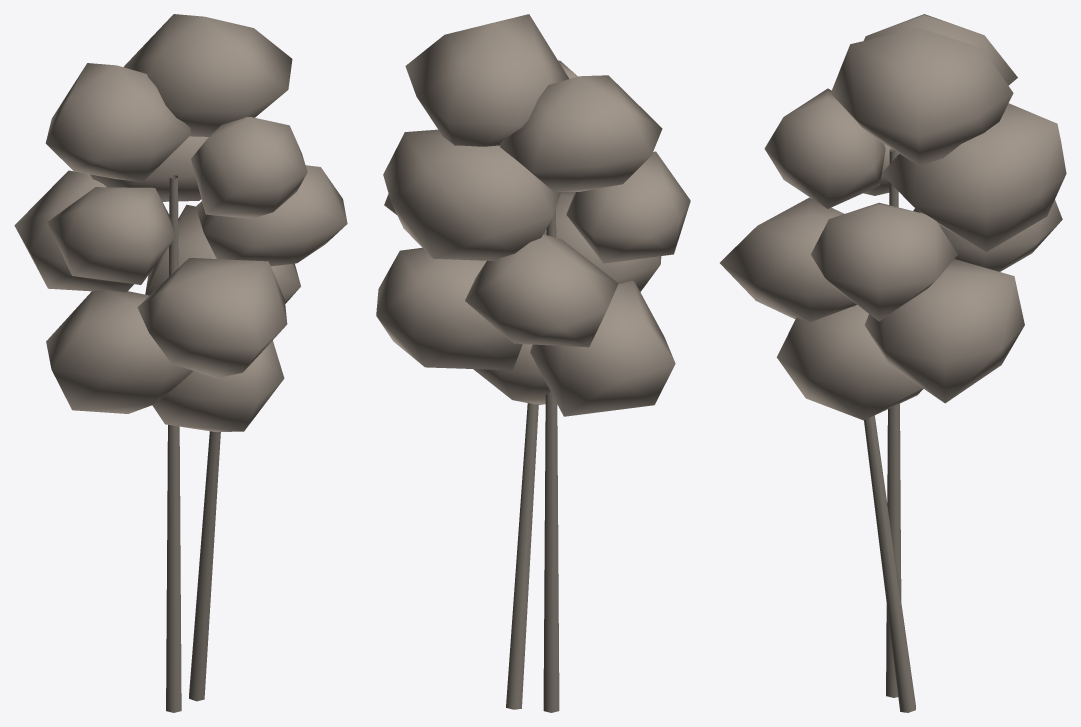
The model's file is tree_birch.glb.
3 views of the same model, side by side, from view 1: azimuth 30°, elevation 25°; view 2: azimuth 150°, elevation 25°; view 3: azimuth 270°, elevation 25° (orthographic). The views are drawn at different scales.
Parts seen in each view (by area): view 1: tree_birch; view 2: tree_birch; view 3: tree_birch.
Boxes of the visible parts, x1,y1,x2,y2 form: tree_birch: [14, 14, 347, 712]; tree_birch: [376, 14, 690, 712]; tree_birch: [720, 14, 1066, 712].
Bounding box in the file's own units: 4.75 × 10.76 × 4.91.
